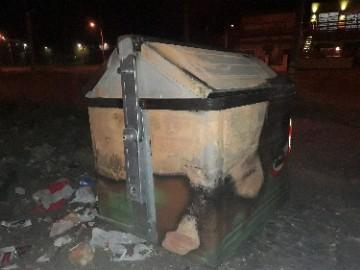Dechets: (0, 165, 95, 269), (90, 227, 151, 260), (32, 178, 73, 210), (50, 213, 80, 236), (69, 242, 93, 266), (0, 245, 17, 269), (0, 218, 31, 228)
Trash: (84, 34, 299, 270)
